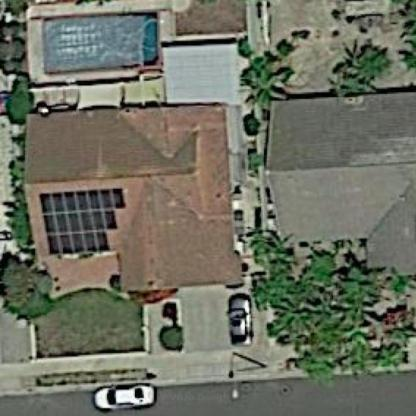car: (220, 285, 262, 350), (81, 385, 162, 411)
solar_panel: (32, 177, 128, 259)
swimming_pool: (28, 9, 179, 81)
